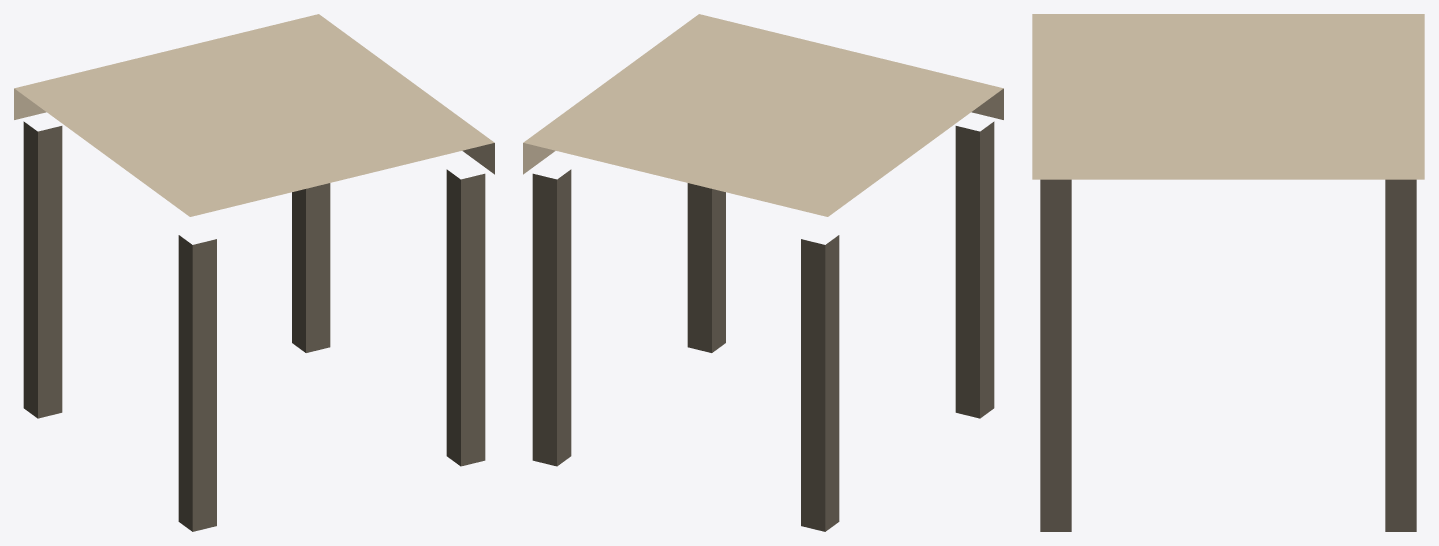
File: Table-beige.glb
3 renders of one model, left to right at view 1: azimuth 30°, elevation 25°; view 2: azimuth 150°, elevation 25°; view 3: azimuth 270°, elevation 25°, orthographic. The views are drawn at different scales.
Visible parts, largest first — view 1: Table; view 2: Table; view 3: Table.
Part boxes in pixels (x1,y1,x2,y2): Table: (14,14,494,531); Table: (523,14,1003,531); Table: (1032,14,1424,531).
Size of the model in its own units: 1 by 1 by 1.
